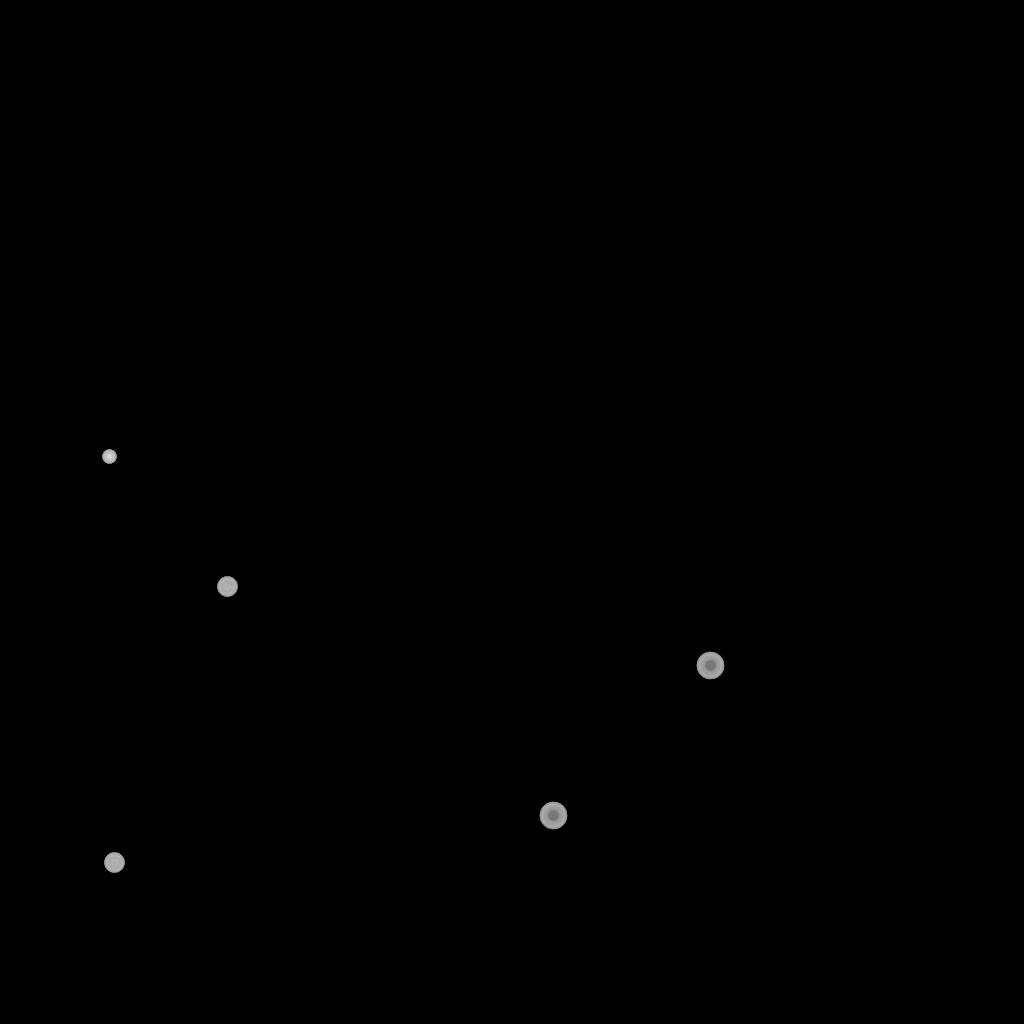depth:-30: (102, 450, 116, 464)
depth:-40: (104, 853, 124, 873), (217, 577, 237, 597)
depth:-50: (539, 802, 567, 830), (696, 652, 724, 680)
